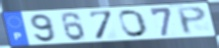6: (60, 11, 87, 42)
7: (148, 7, 174, 38), (89, 9, 113, 40)
9: (29, 13, 57, 43)
O: (118, 9, 150, 38)
P: (175, 6, 208, 36)
